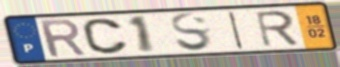1: (127, 14, 156, 55)
C: (80, 17, 131, 56)
I: (227, 10, 246, 51)
R: (37, 17, 89, 59), (253, 9, 302, 49)
S: (168, 12, 214, 54)
